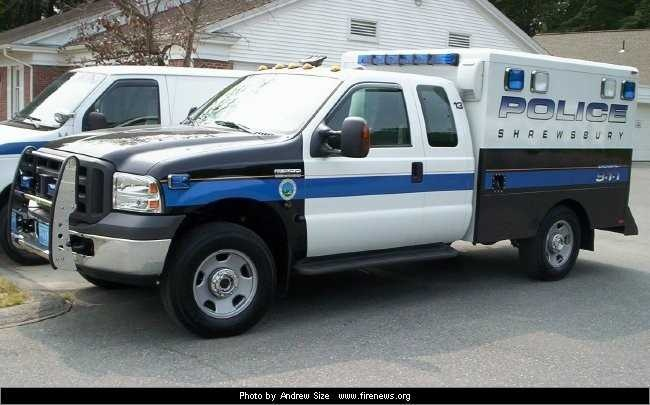Police Van: (86, 43, 635, 322)
